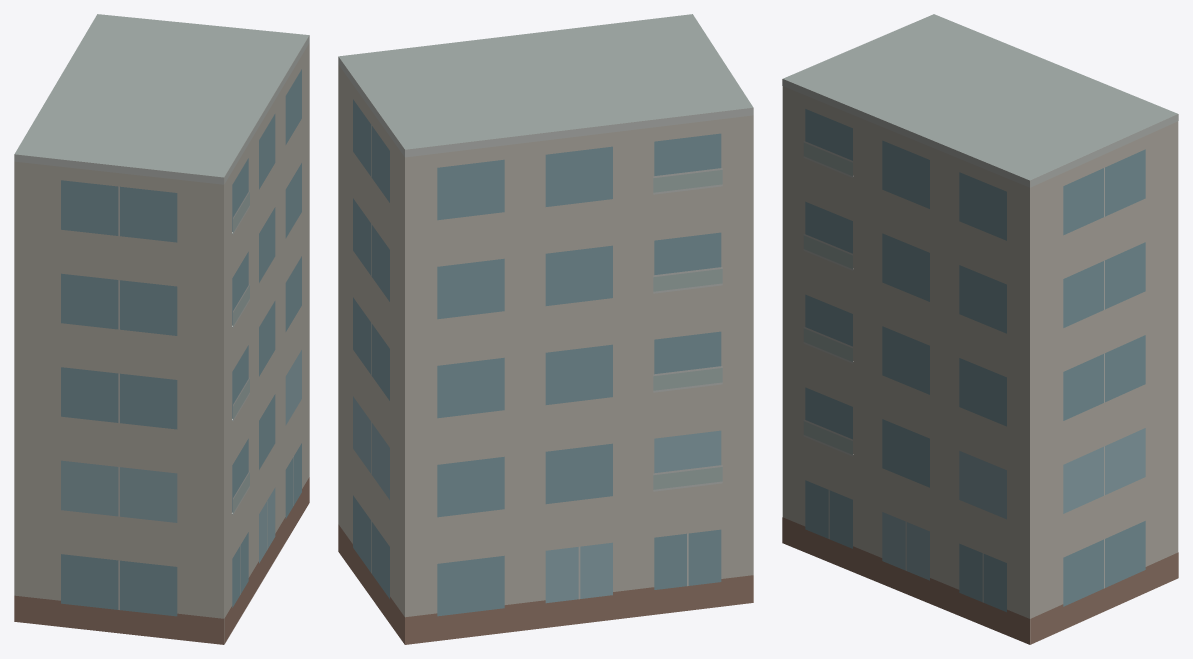
The model's file is survey-upis-32586706.glb.
The picture shows the model from 3 angles, left to right: view 1: azimuth 30°, elevation 25°; view 2: azimuth 150°, elevation 25°; view 3: azimuth 270°, elevation 25°; orthographic projection. The views are drawn at different scales.
Visible parts, largest first — view 1: survey-upis-32586706.tmp; view 2: survey-upis-32586706.tmp; view 3: survey-upis-32586706.tmp.
Part boxes in pixels (<box>): survey-upis-32586706.tmp: <box>14,14,309,644</box>; survey-upis-32586706.tmp: <box>338,14,753,644</box>; survey-upis-32586706.tmp: <box>782,14,1178,644</box>.
Bounding box in the file's own units: 12.09 × 15.7 × 12.14.
